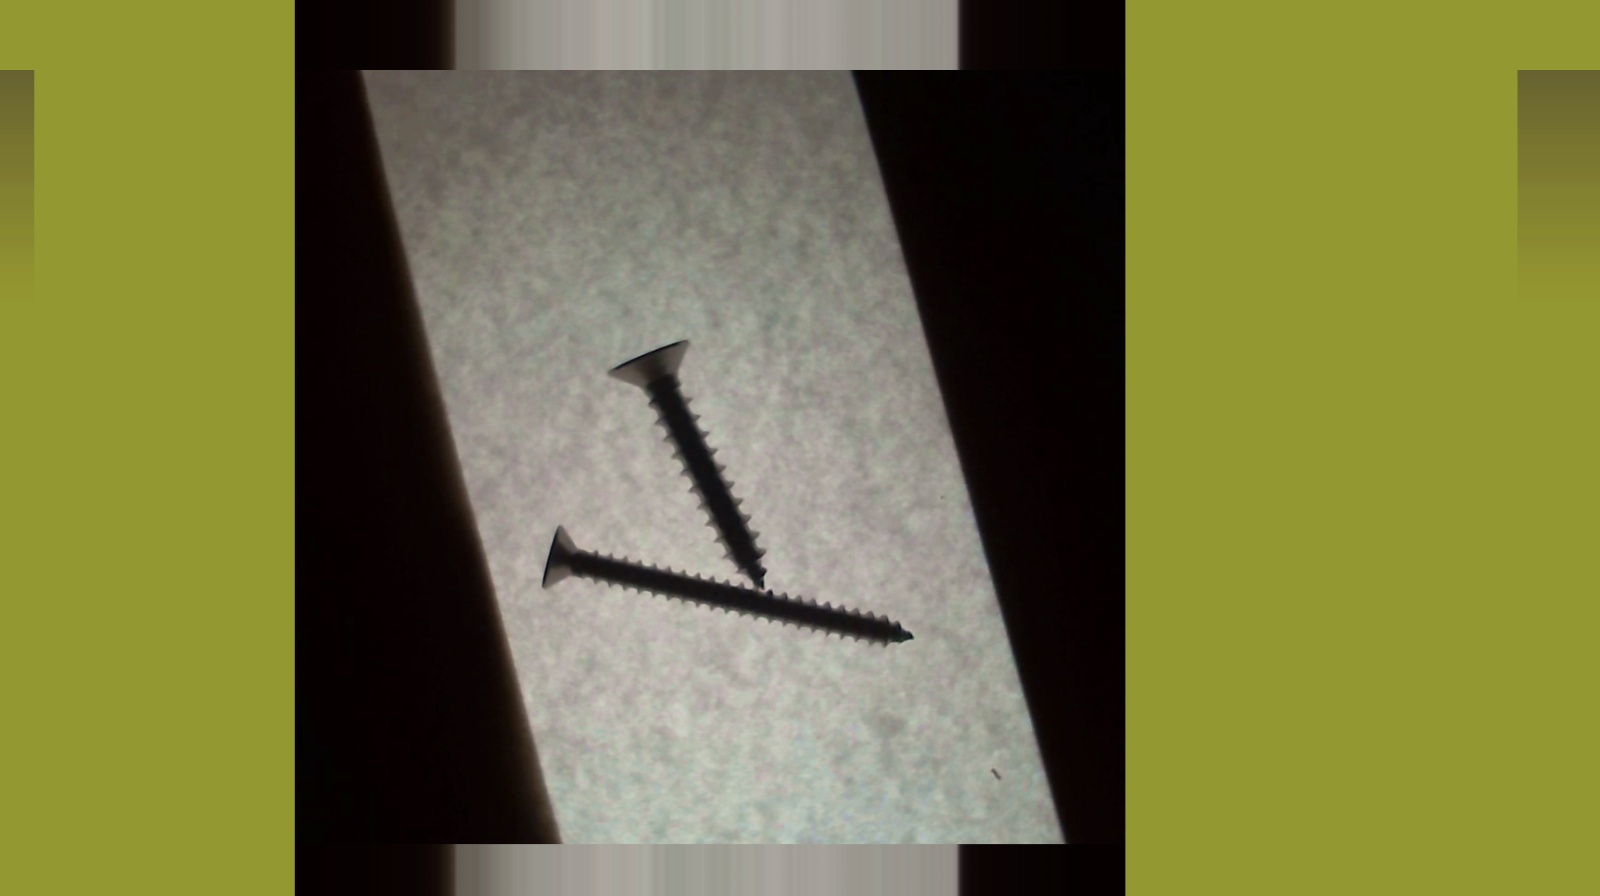S001: (597, 333, 771, 597)
S002: (534, 521, 908, 650)
